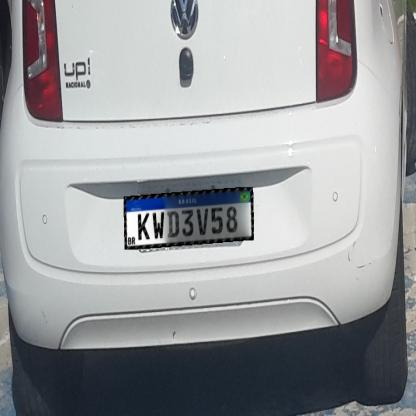PlacaM: (124, 187, 254, 250)
